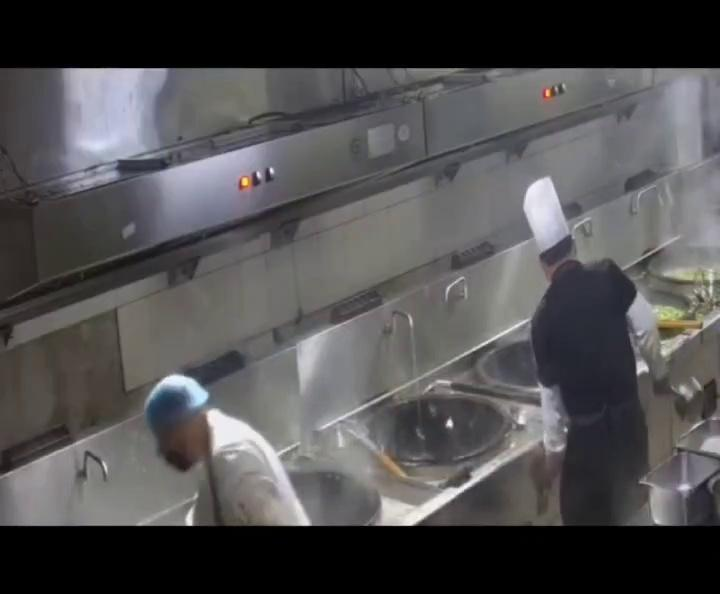gloves: (144, 375, 214, 423)
